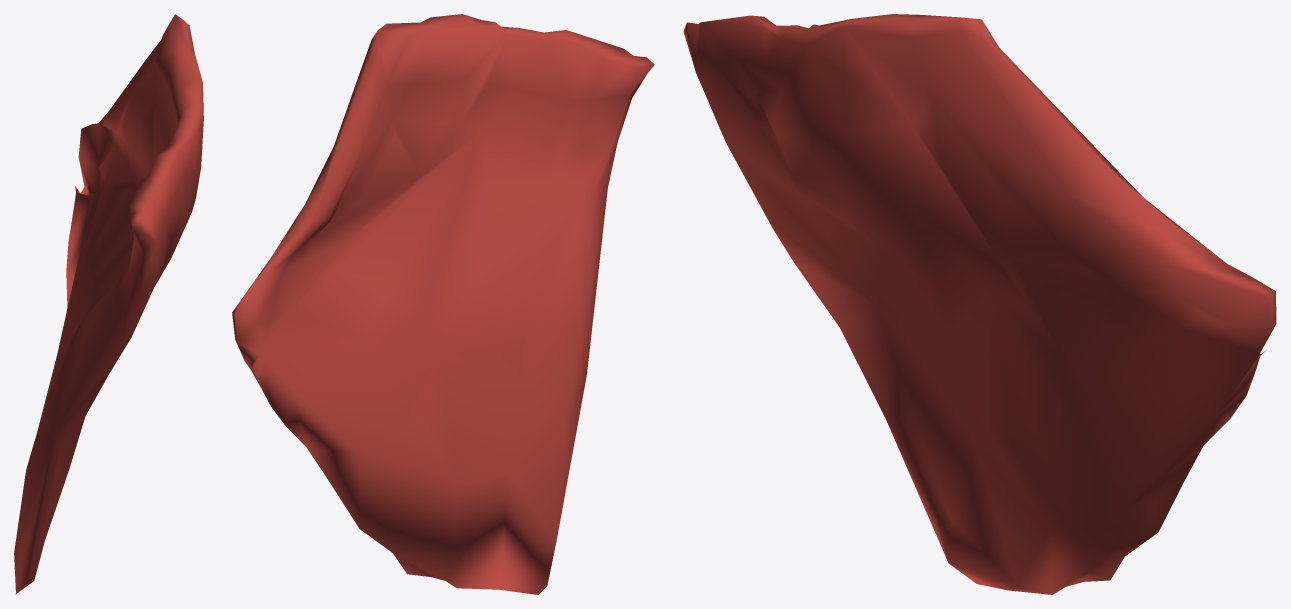
File: musculos-thyrohyoid-muscle-l.glb
The picture shows the model from 3 angles, left to right: view 1: azimuth 30°, elevation 25°; view 2: azimuth 150°, elevation 25°; view 3: azimuth 270°, elevation 25°; orthographic projection. The views are drawn at different scales.
Visible parts, largest first — view 1: Thyrohyoid muscle.l; view 2: Thyrohyoid muscle.l; view 3: Thyrohyoid muscle.l.
Part boxes in pixels (x1,y1,x2,y2): Thyrohyoid muscle.l: [14, 14, 203, 594]; Thyrohyoid muscle.l: [232, 14, 654, 594]; Thyrohyoid muscle.l: [683, 14, 1276, 594].
Size of the model in its own units: 0.0123 by 0.0308 by 0.025.
